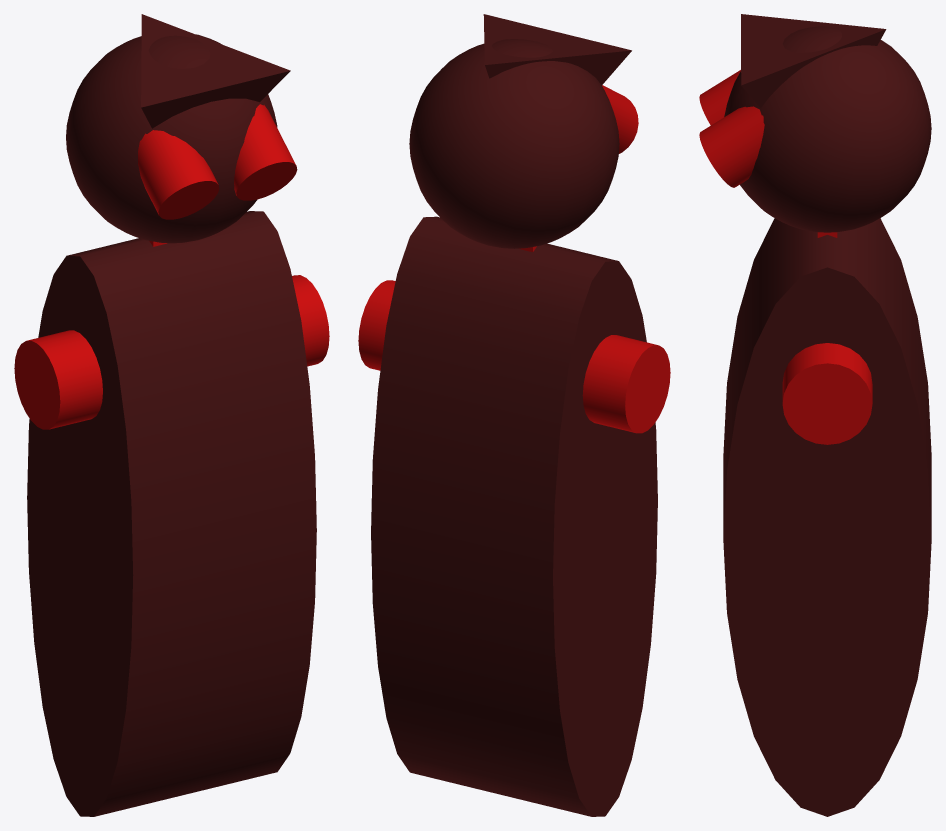
The model's file is run.obj.
The picture shows the model from 3 angles, left to right: view 1: azimuth 30°, elevation 25°; view 2: azimuth 150°, elevation 25°; view 3: azimuth 270°, elevation 25°; orthographic projection.
Parts seen in each view (by area): view 1: Cylinder2, Sphere, Cylinder3, Tetrahedron, Cylinder, Cylinder1; view 2: Cylinder2, Sphere, Cylinder3, Tetrahedron, Cylinder; view 3: Cylinder2, Sphere, Cylinder3, Tetrahedron, Cylinder1, Cylinder.
Boxes of the visible parts, x1,y1,x2,y2 form: Cylinder2: (27,211,316,816); Sphere: (66,34,277,243); Cylinder3: (14,275,329,429); Tetrahedron: (141,14,290,128); Cylinder: (138,130,219,219); Cylinder1: (234,104,297,200); Cylinder2: (371,216,657,816); Sphere: (409,39,619,248); Cylinder3: (358,280,670,433); Tetrahedron: (483,14,631,85); Cylinder: (602,85,638,153); Cylinder2: (723,218,931,816); Sphere: (724,26,931,232); Cylinder3: (782,343,872,444); Tetrahedron: (741,14,886,108); Cylinder1: (699,106,764,187); Cylinder: (699,70,740,125).
Size of the model in its own units: 1.47 by 3.94 by 1.12.
